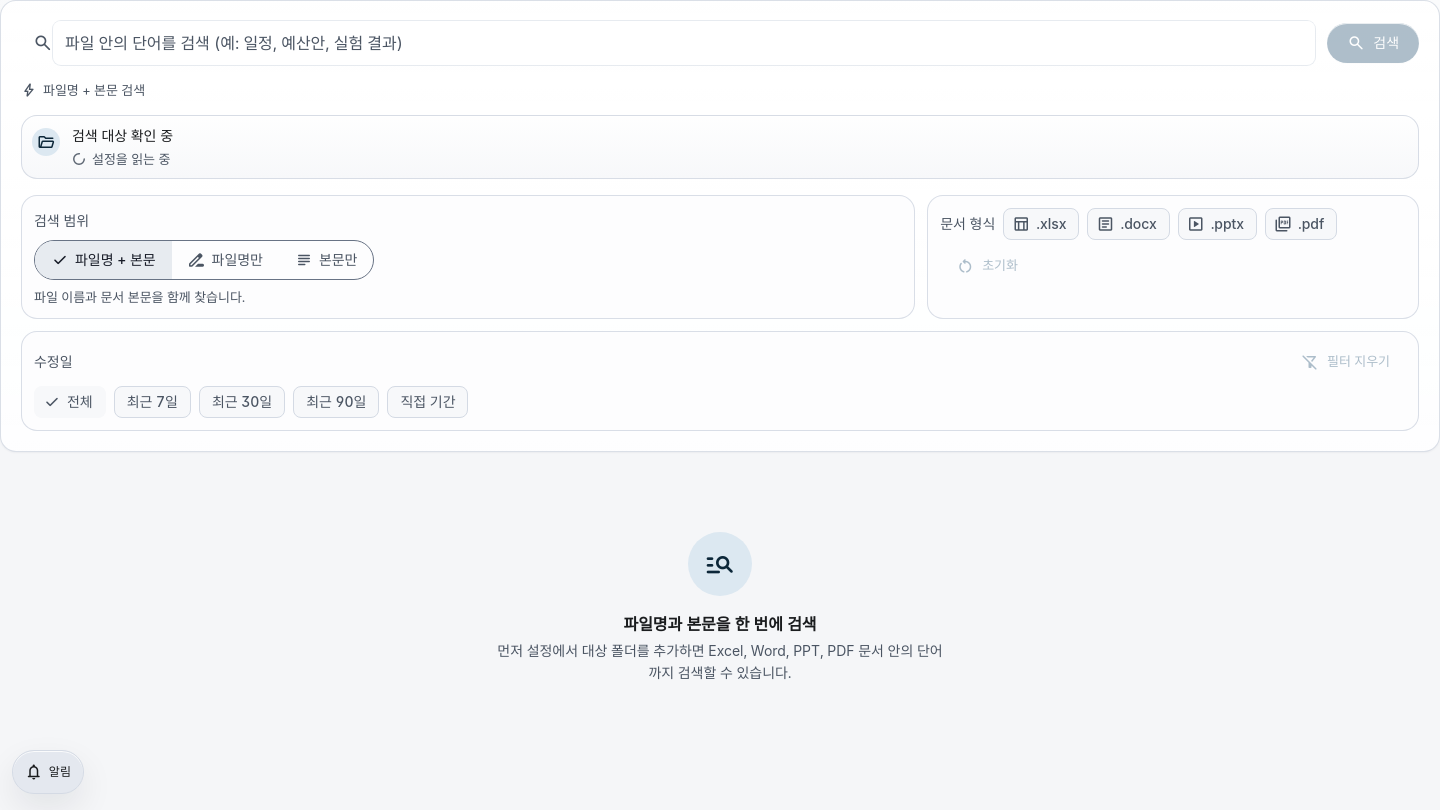
FileSearch › results rendering › automatically loads the next result page when the sentinel scrolls into view
The image size is (1440, 810).
Type "회의" into the field with placeholder "파일 안의 단어를 검색 (예: 일정, 예산안, 실험 결과)".
click(684, 43); type("회의")  # box [53,21,1315,65]
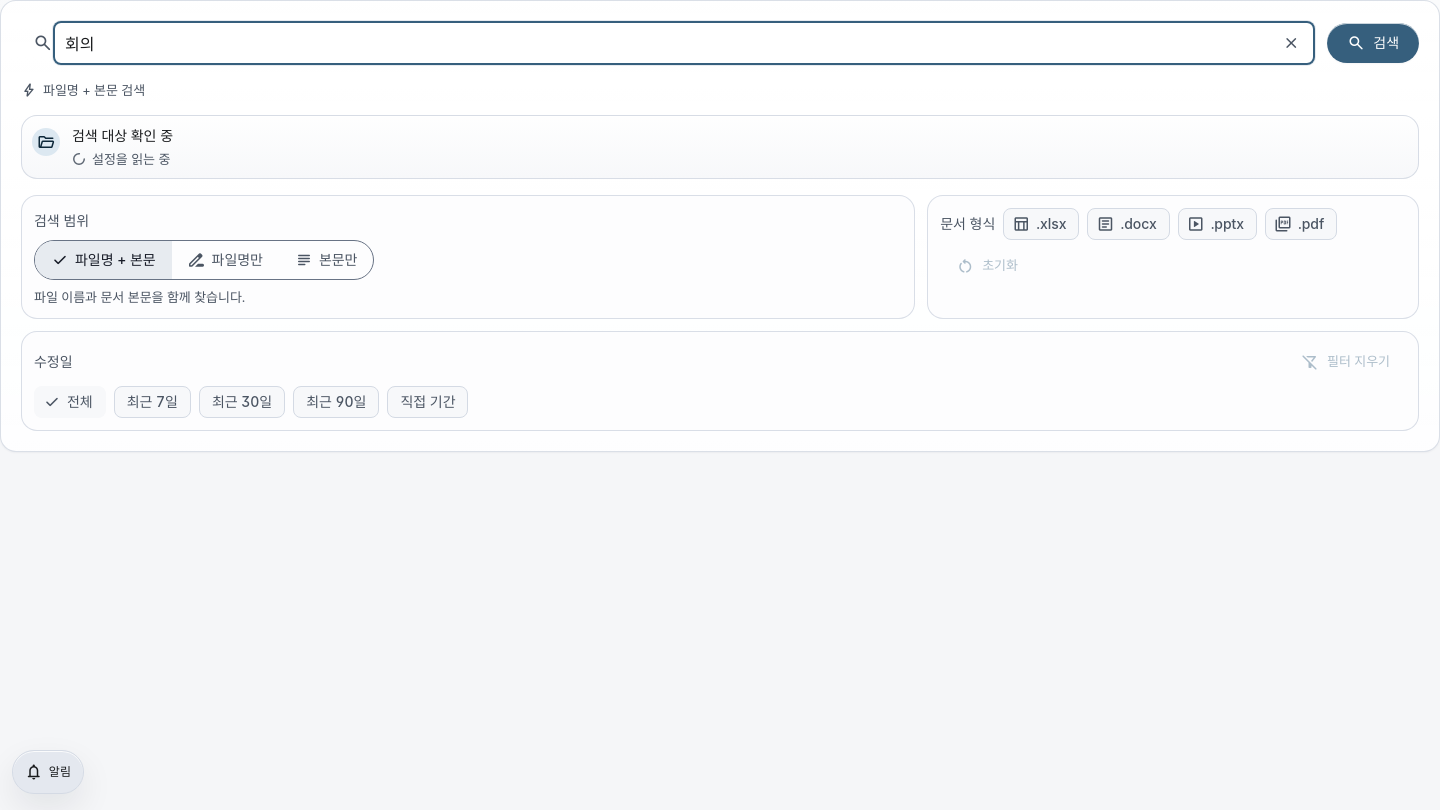
Click the button "검색".
click(1373, 43)  # box [1327,23,1419,63]
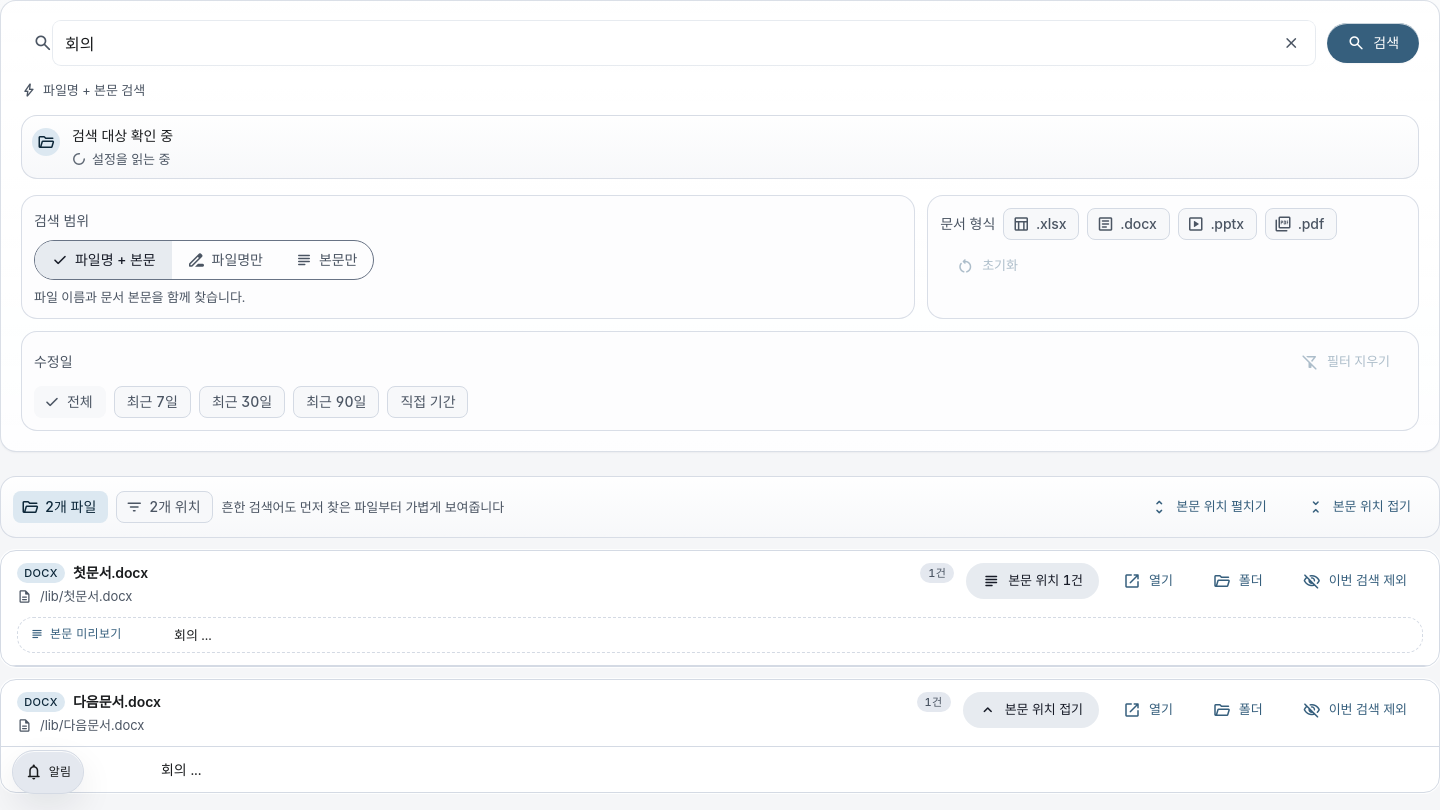
Now the text "첫문서.docx" is shown, box [73,564,148,581]
Now the text "다음문서.docx" is shown, box [73,693,161,710]
